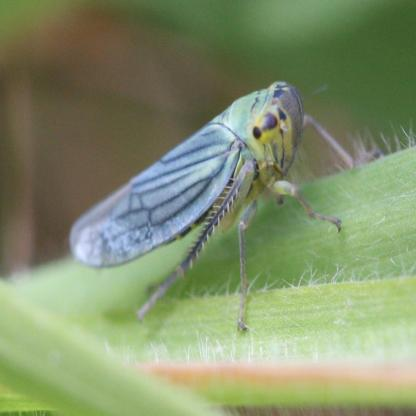Green-Leafhopper: (63, 77, 359, 333)
